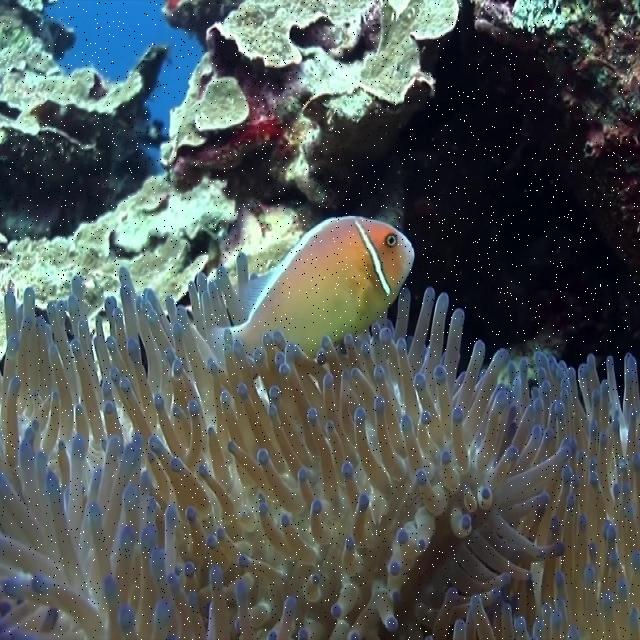fish: (211, 216, 414, 360)
reefs: (0, 267, 639, 639)
